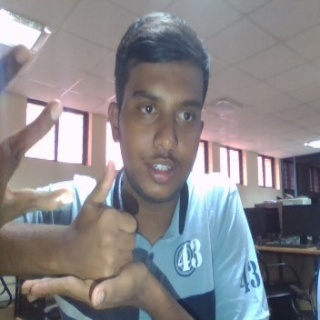Face: (108, 12, 212, 202)
